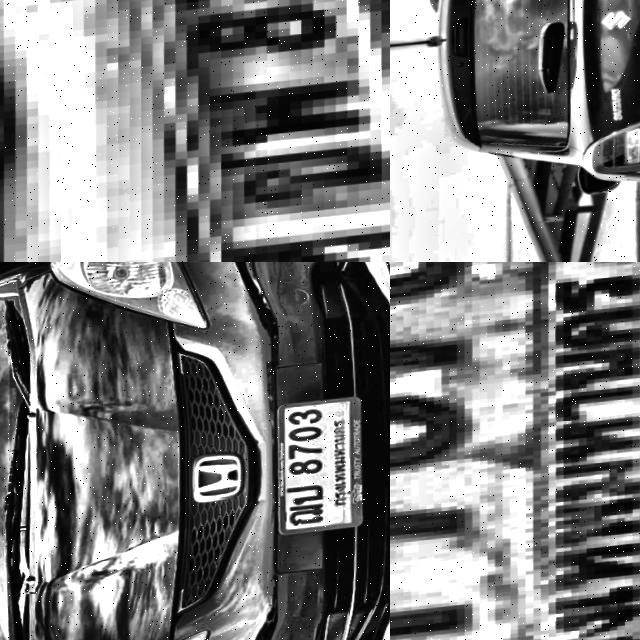license-plate: (390, 262, 640, 640), (35, 0, 390, 262), (273, 401, 374, 543)
